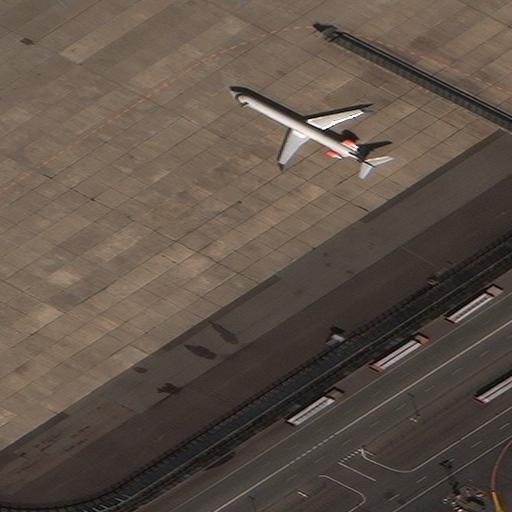Medium Civil Transport: (230, 91, 376, 169)
